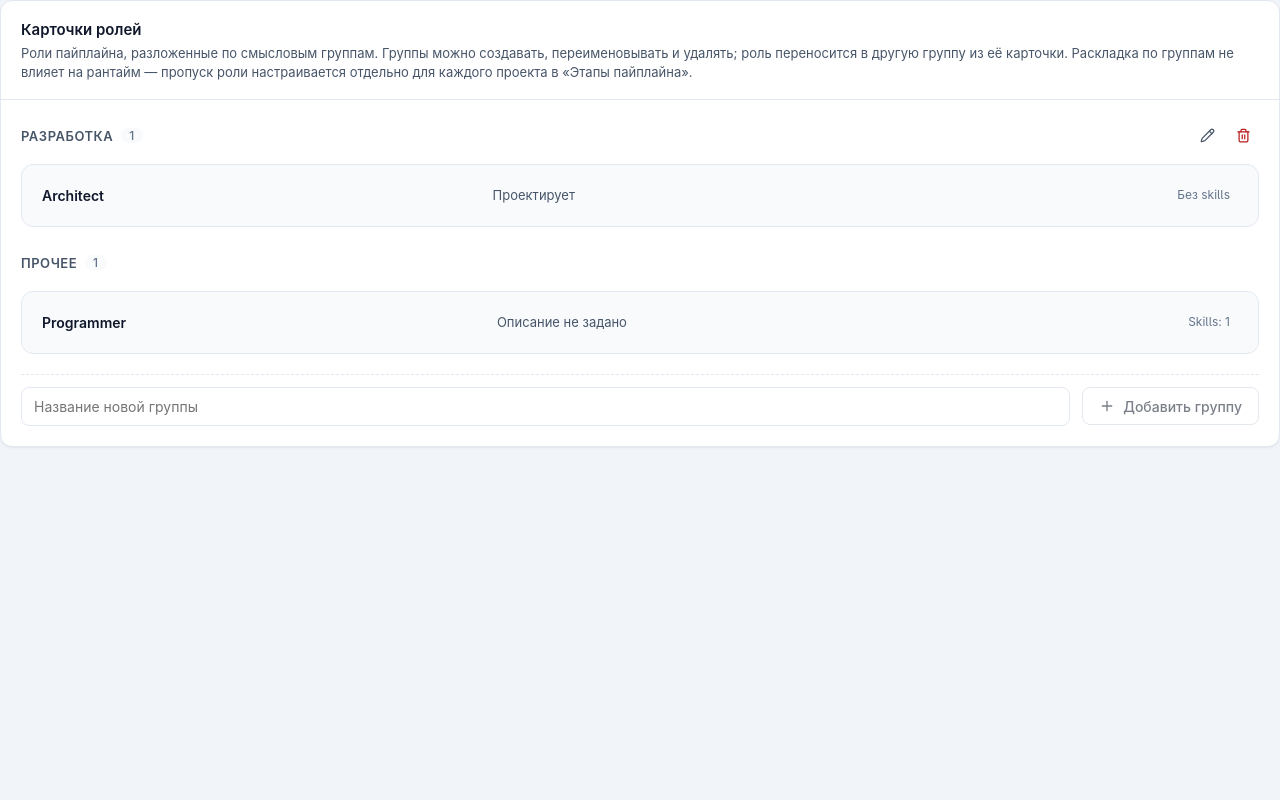
Scenario: RoleCardsSection — дерево ролей по группам › клик по строке роли открывает модальное окно карточки
Click the button with aria-label "Открыть карточку роли «Programmer»": (84, 322) [30,300,1242,345]
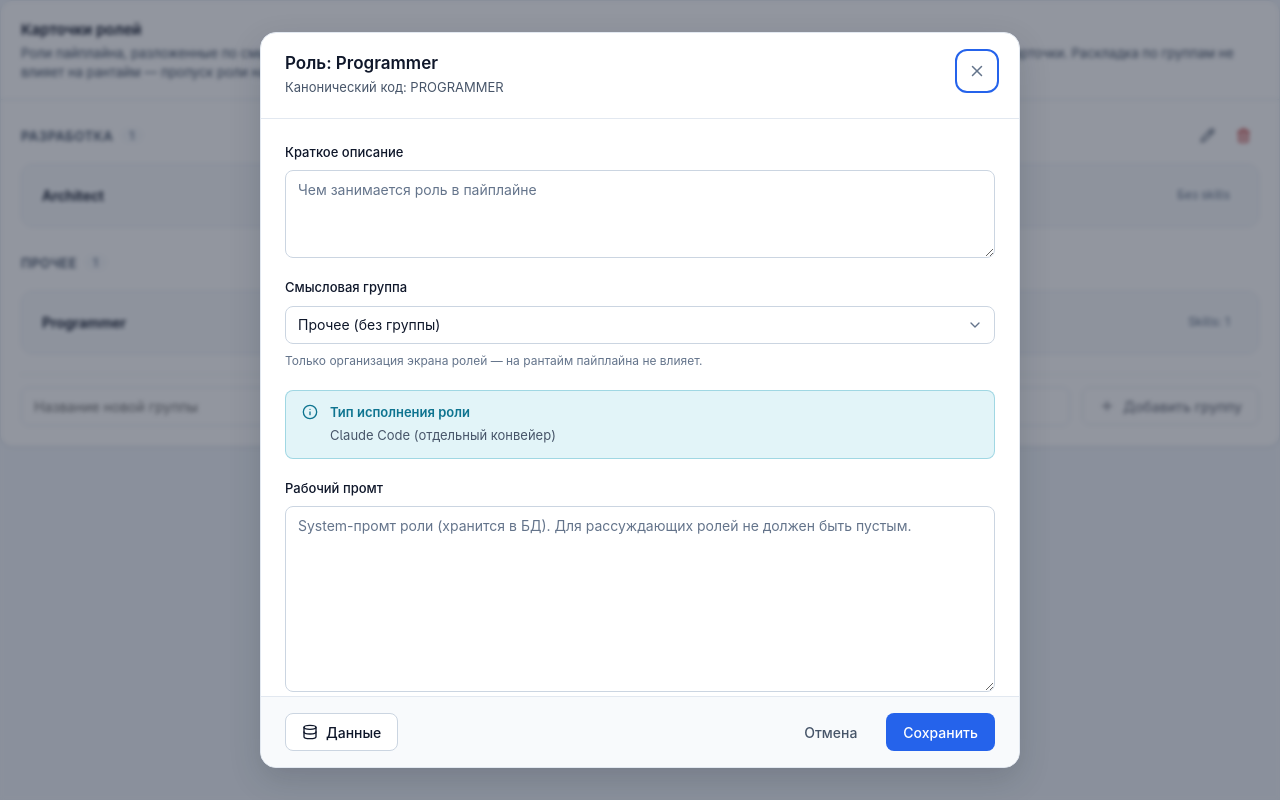
Now the dialog shows "Роль: Programmer", box [285,53,438,73]
